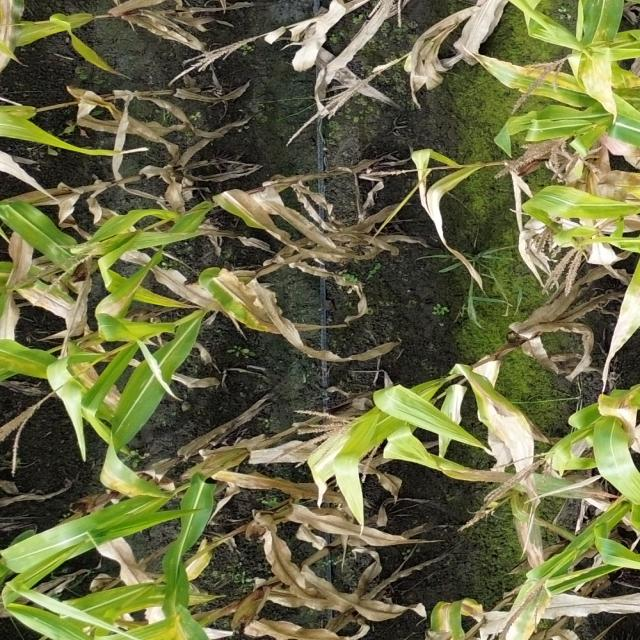gray-leaf-spot: (152, 500, 211, 640)
northern-leaf-blight: (424, 38, 619, 98), (477, 390, 559, 505), (204, 263, 282, 340), (0, 346, 90, 392)
